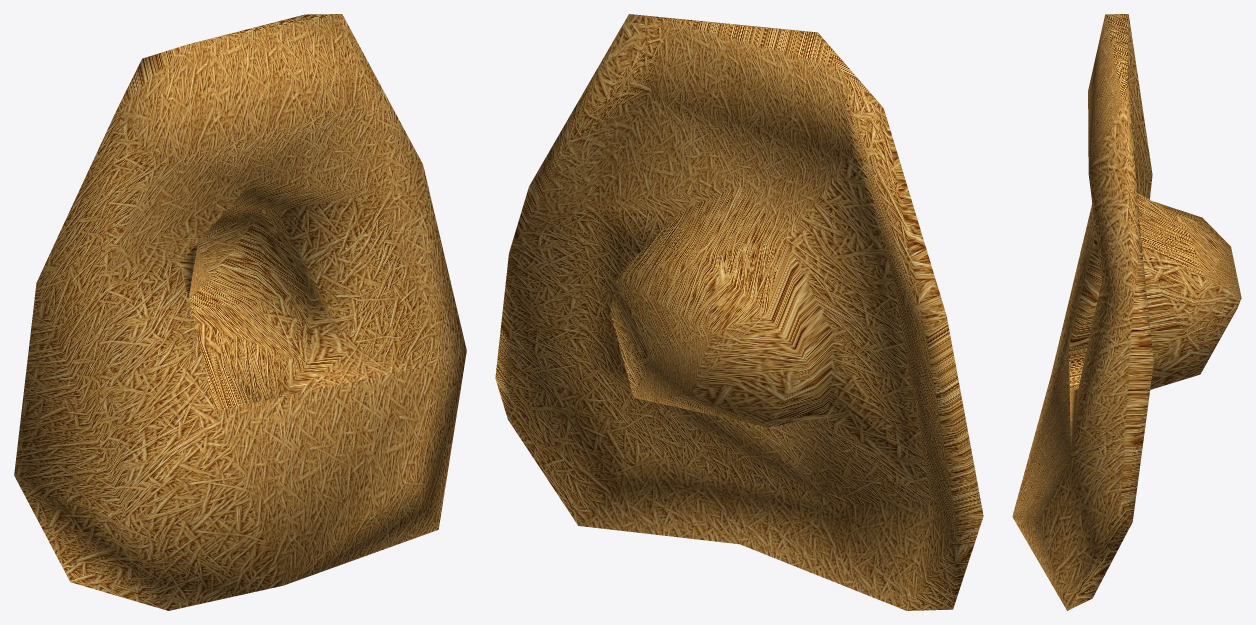
Rendered from chapeu.fbx.
The picture shows the model from 3 angles, left to right: view 1: azimuth 30°, elevation 25°; view 2: azimuth 150°, elevation 25°; view 3: azimuth 270°, elevation 25°; orthographic projection. The views are drawn at different scales.
Parts seen in each view (by area): view 1: Plane.001; view 2: Plane.001; view 3: Plane.001.
Part boxes in pixels (x1=…): Plane.001: x1=14, y1=14, x2=466, y2=610; Plane.001: x1=495, y1=14, x2=983, y2=610; Plane.001: x1=1012, y1=14, x2=1241, y2=610.
Size of the model in its own units: 78.74 by 88.38 by 37.14.
1 material, 1 textured.
